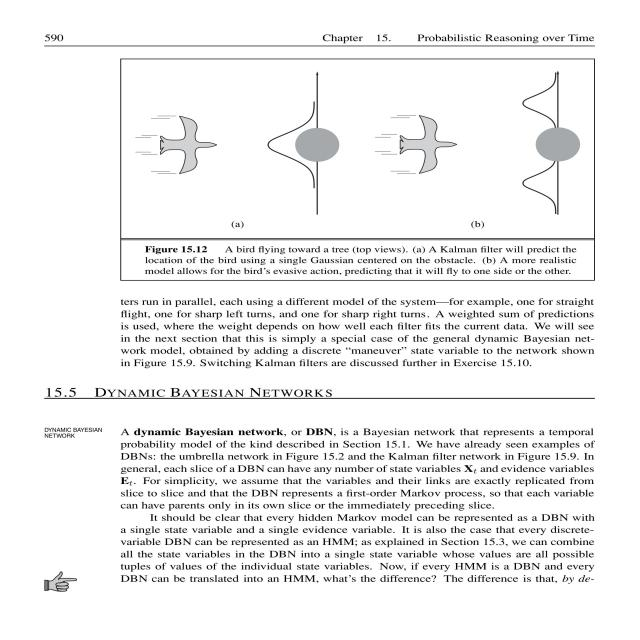diagram: (99, 50, 614, 294)
